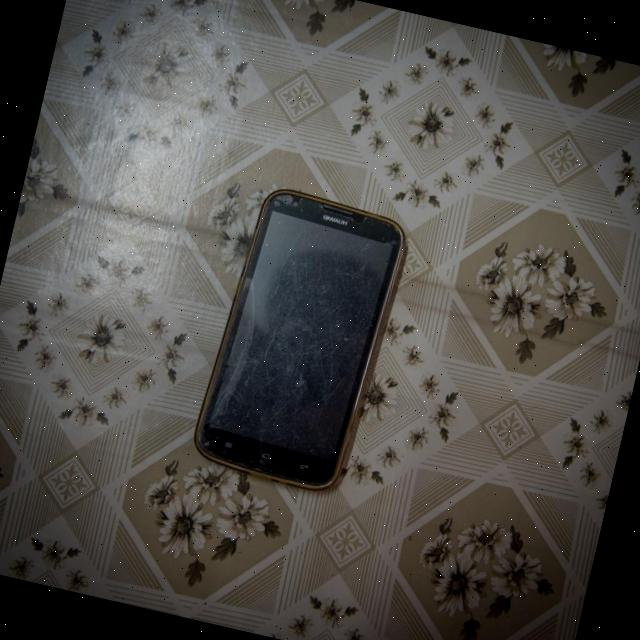Phone: (186, 176, 410, 500)
